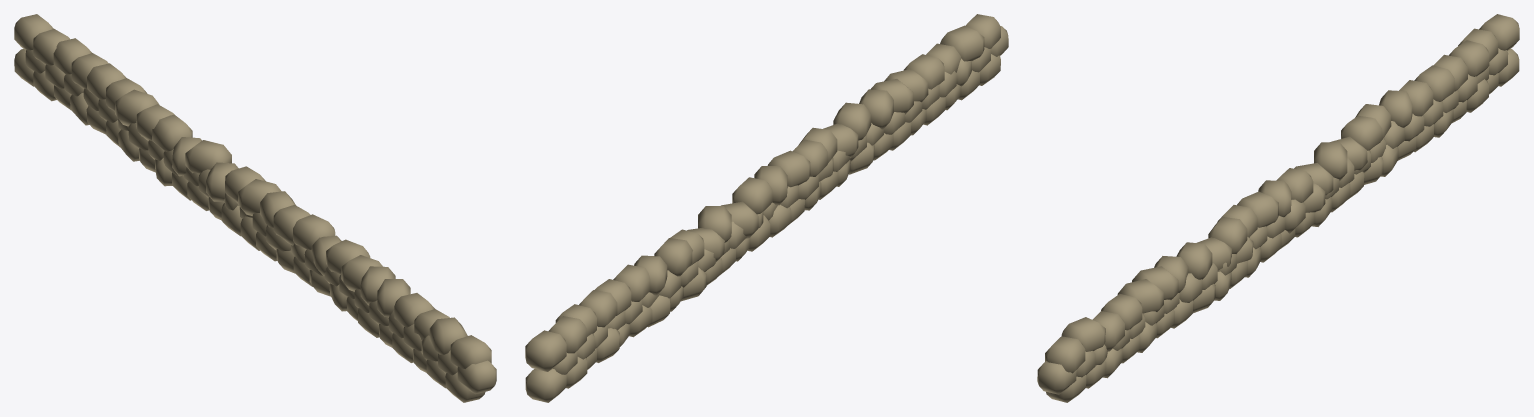
File: HospitalSackPile.fbx
The picture shows the model from 3 angles, left to right: view 1: azimuth 30°, elevation 25°; view 2: azimuth 150°, elevation 25°; view 3: azimuth 330°, elevation 25°; orthographic projection.
Parts seen in each view (by area): view 1: SackTrench_Small.047, SackTrench_Small.004, SackTrench_Small.006, SackTrench_Small.029, SackTrench_Small.053, SackTrench_Small.005, SackTrench_Small.059, SackTrench_Small.041, SackTrench_Small.011, SackTrench_Small.077, SackTrench_Small.023, SackTrench_Small.016 (+18 smaller); view 2: SackTrench_Small.077, SackTrench_Small.074, SackTrench_Small.005, SackTrench_Small.040, SackTrench_Small.058, SackTrench_Small.022, SackTrench_Small.035, SackTrench_Small.023, SackTrench_Small.076, SackTrench_Small.047, SackTrench_Small.070, SackTrench_Small.064 (+21 smaller); view 3: SackTrench_Small.004, SackTrench_Small.005, SackTrench_Small.047, SackTrench_Small.053, SackTrench_Small.006, SackTrench_Small.016, SackTrench_Small.029, SackTrench_Small.023, SackTrench_Small.077, SackTrench_Small.071, SackTrench_Small.035, SackTrench_Small.065 (+21 smaller).
Part boxes in pixels (x1,y1,x2,y2): SackTrench_Small.047: [185, 140, 231, 173]; SackTrench_Small.004: [450, 335, 491, 368]; SackTrench_Small.006: [457, 360, 496, 394]; SackTrench_Small.029: [293, 214, 335, 249]; SackTrench_Small.053: [152, 114, 192, 151]; SackTrench_Small.005: [429, 317, 467, 354]; SackTrench_Small.059: [115, 89, 159, 126]; SackTrench_Small.041: [238, 179, 281, 215]; SackTrench_Small.011: [394, 293, 434, 327]; SackTrench_Small.077: [14, 14, 53, 50]; SackTrench_Small.023: [326, 239, 370, 274]; SackTrench_Small.016: [377, 279, 410, 316]; SackTrench_Small.077: [525, 330, 566, 371]; SackTrench_Small.074: [525, 368, 566, 402]; SackTrench_Small.005: [940, 25, 984, 61]; SackTrench_Small.040: [732, 177, 772, 214]; SackTrench_Small.058: [654, 238, 692, 276]; SackTrench_Small.022: [859, 89, 893, 129]; SackTrench_Small.035: [767, 150, 810, 187]; SackTrench_Small.023: [833, 102, 871, 140]; SackTrench_Small.076: [548, 316, 586, 353]; SackTrench_Small.047: [698, 206, 731, 242]; SackTrench_Small.070: [579, 290, 617, 327]; SackTrench_Small.064: [613, 264, 650, 301]; SackTrench_Small.004: [1045, 336, 1085, 373]; SackTrench_Small.005: [1061, 317, 1105, 351]; SackTrench_Small.047: [1314, 142, 1347, 181]; SackTrench_Small.053: [1341, 115, 1381, 150]; SackTrench_Small.006: [1037, 361, 1076, 394]; SackTrench_Small.016: [1117, 279, 1163, 313]; SackTrench_Small.029: [1208, 217, 1247, 253]; SackTrench_Small.023: [1176, 242, 1212, 279]; SackTrench_Small.077: [1479, 14, 1519, 50]; SackTrench_Small.071: [1449, 40, 1489, 76]; SackTrench_Small.035: [1237, 191, 1278, 227]; SackTrench_Small.065: [1414, 65, 1454, 101].
Size of the model in its own units: 2.79 by 4.03 by 53.9.
Materials: 1 (1 with a texture image).
